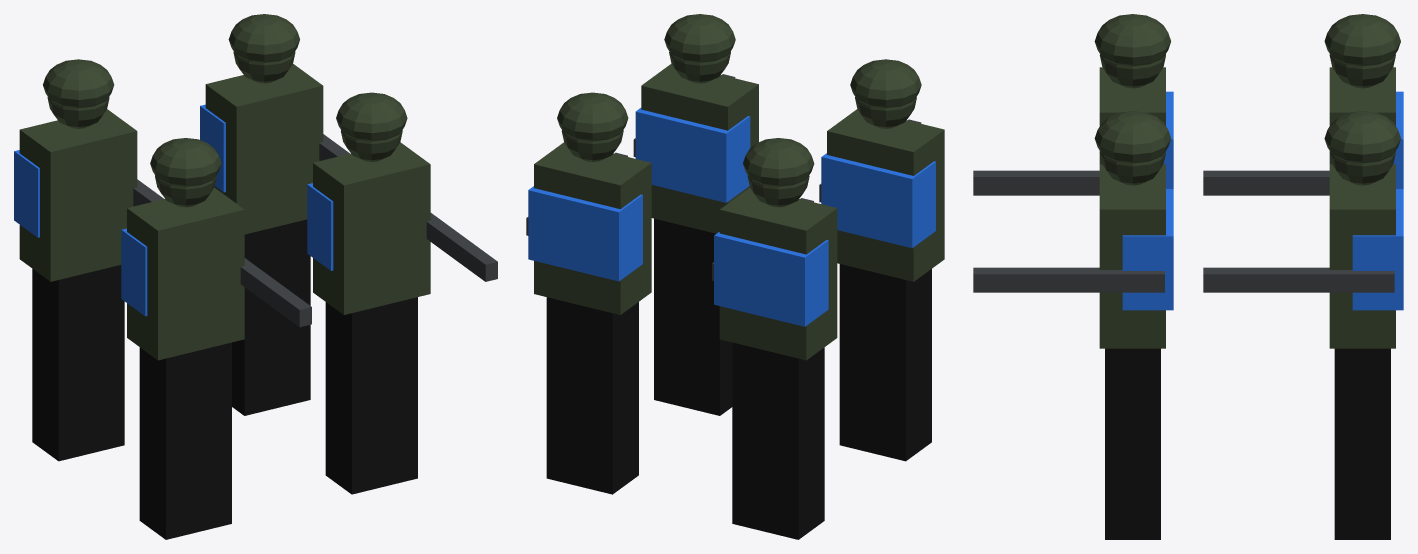
File: ru_motor_rifle_squad.glb
3 renders of one model, left to right at view 1: azimuth 30°, elevation 25°; view 2: azimuth 150°, elevation 25°; view 3: azimuth 270°, elevation 25°, orthographic. The views are drawn at different scales.
Visible parts, largest first — view 1: soldier_0, soldier_1, soldier_2, torso_0, torso_1, torso_2, torso_3, soldier_3, helmet_0, helmet_1, helmet_2, helmet_3 (+10 smaller); view 2: soldier_0, soldier_3, soldier_2, soldier_1, torso_2, torso_3, torso_0, vest_3, vest_2, vest_0, vest_1, torso_1 (+8 smaller); view 3: soldier_3, soldier_1, torso_1, torso_3, rifle_1, rifle_3, vest_3, vest_1, rifle_0, rifle_2, helmet_1, helmet_0 (+10 smaller).
Boxes of the visible parts, <box> form: soldier_0: <box>139,342,231,539</box>; soldier_1: <box>325,297,417,494</box>; soldier_2: <box>32,265,124,461</box>; torso_0: <box>127,187,244,360</box>; torso_1: <box>313,142,430,314</box>; torso_2: <box>19,109,137,281</box>; torso_3: <box>205,64,323,234</box>; soldier_3: <box>232,219,310,415</box>; helmet_0: <box>150,138,221,186</box>; helmet_1: <box>336,92,407,141</box>; helmet_2: <box>43,59,114,107</box>; helmet_3: <box>228,14,299,62</box>; soldier_0: <box>839,264,931,461</box>; soldier_3: <box>546,297,638,494</box>; soldier_2: <box>732,342,824,539</box>; soldier_1: <box>654,218,732,415</box>; torso_2: <box>719,188,837,360</box>; torso_3: <box>534,142,651,314</box>; torso_0: <box>827,109,944,281</box>; vest_3: <box>528,186,642,281</box>; vest_2: <box>714,232,828,326</box>; vest_0: <box>821,153,935,248</box>; vest_1: <box>635,108,750,202</box>; torso_1: <box>641,63,758,233</box>; soldier_3: <box>1334,348,1390,539</box>; soldier_1: <box>1105,348,1160,539</box>; torso_1: <box>1099,164,1165,348</box>; torso_3: <box>1329,164,1395,348</box>; rifle_1: <box>973,267,1164,292</box>; rifle_3: <box>1203,267,1394,292</box>; vest_3: <box>1352,189,1403,310</box>; vest_1: <box>1122,189,1173,310</box>; rifle_0: <box>973,170,1099,195</box>; rifle_2: <box>1203,170,1329,195</box>; helmet_1: <box>1094,111,1170,163</box>; helmet_0: <box>1094,14,1171,66</box>.
Size of the model in its own units: 1.78 by 2.28 by 2.19.
